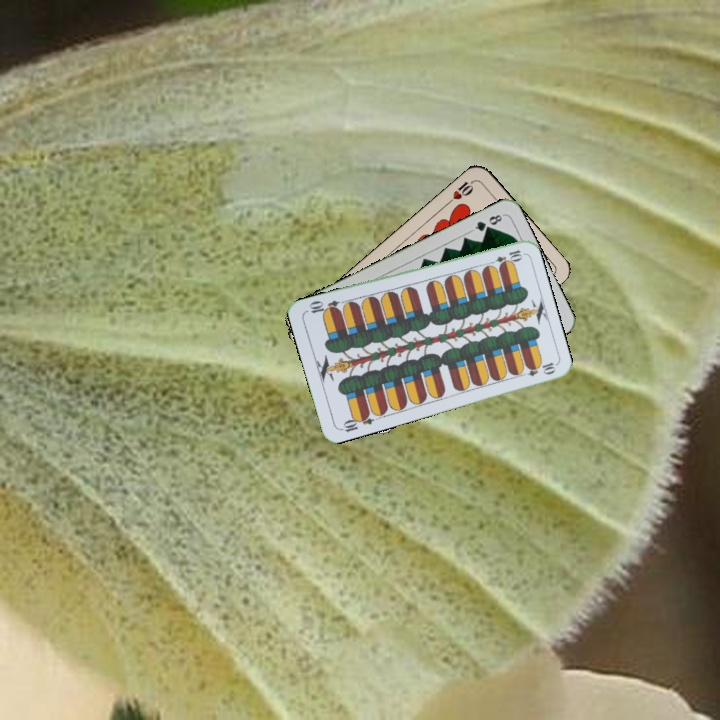E10: (336, 409, 376, 435), (484, 246, 525, 268)
G8: (468, 210, 506, 234)
H10: (443, 176, 477, 207)
